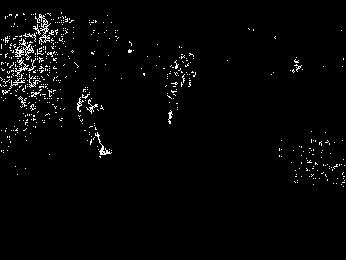person: (76, 92, 113, 155), (162, 64, 183, 124)
